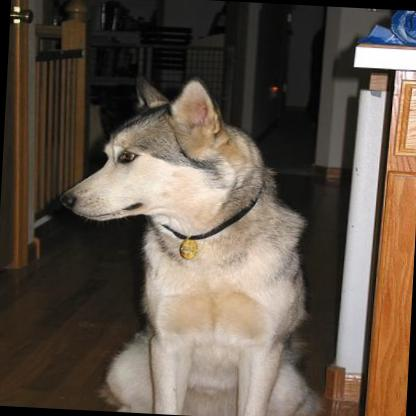malamute: (47, 68, 338, 416)
